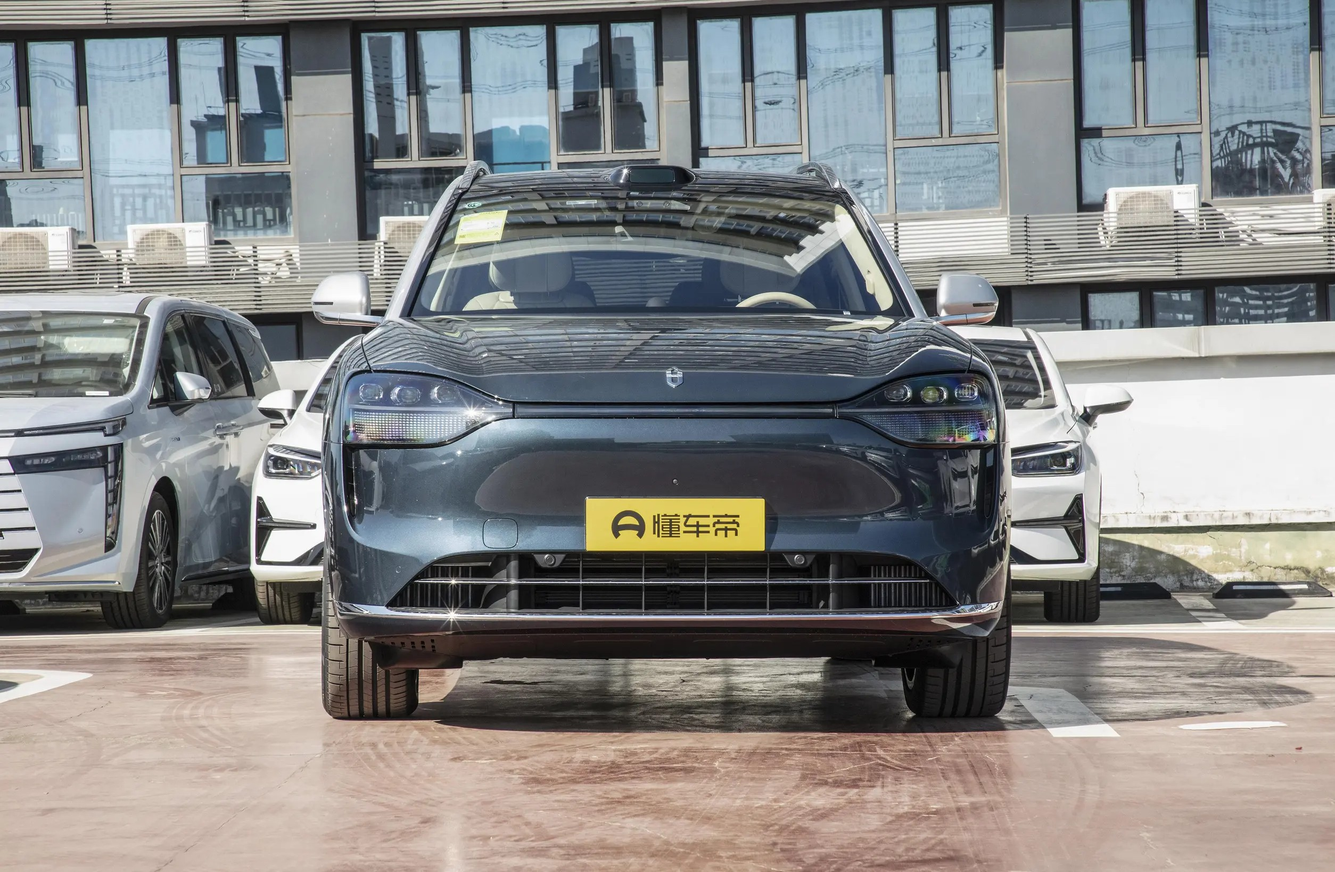AITO: (666, 367, 683, 387)
